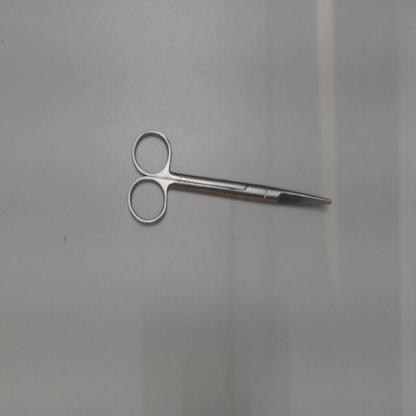Curved Mayo Scissors: (122, 119, 336, 235)
